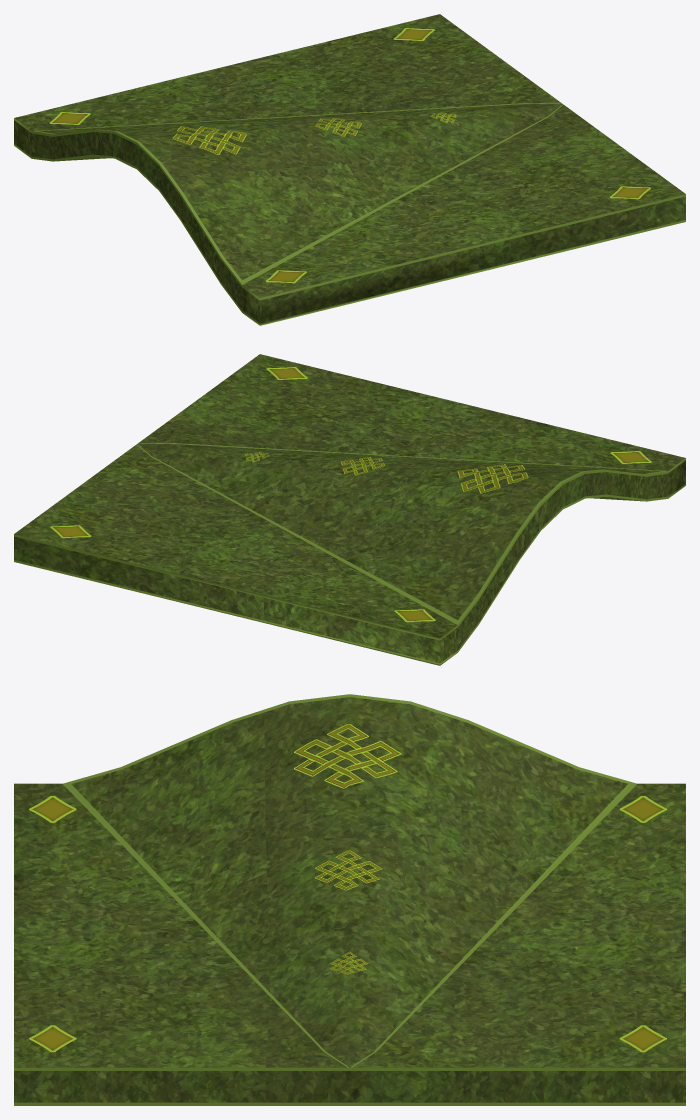
The model's file is mountain_sidebend.gltf.
The picture shows the model from 3 angles, top to bottom: view 1: azimuth 30°, elevation 25°; view 2: azimuth 150°, elevation 25°; view 3: azimuth 270°, elevation 25°; orthographic projection. The views are drawn at different scales.
Visible parts, largest first — view 1: mountain_sidebend_glb; view 2: mountain_sidebend_glb; view 3: mountain_sidebend_glb.
Boxes of the visible parts, x1,y1,x2,y2 form: mountain_sidebend_glb: (14, 14, 685, 325); mountain_sidebend_glb: (14, 354, 685, 665); mountain_sidebend_glb: (14, 694, 685, 1105).
Size of what is drawn, in the model's own units: 4 by 0.8385 by 4.
2 materials, 2 textured.
